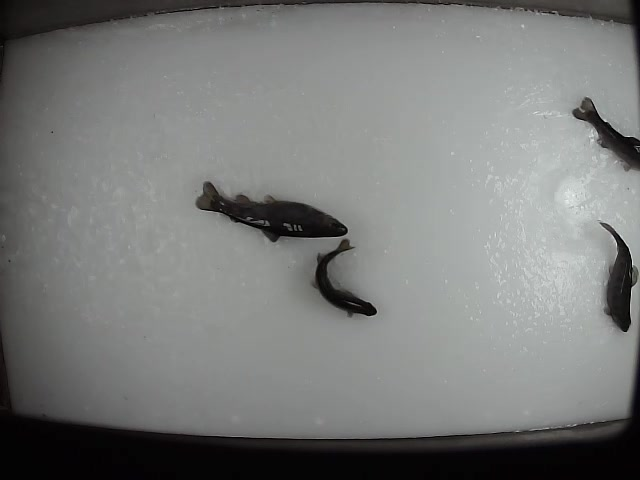Fish: (194, 183, 348, 242), (311, 238, 377, 317), (600, 222, 639, 333)
